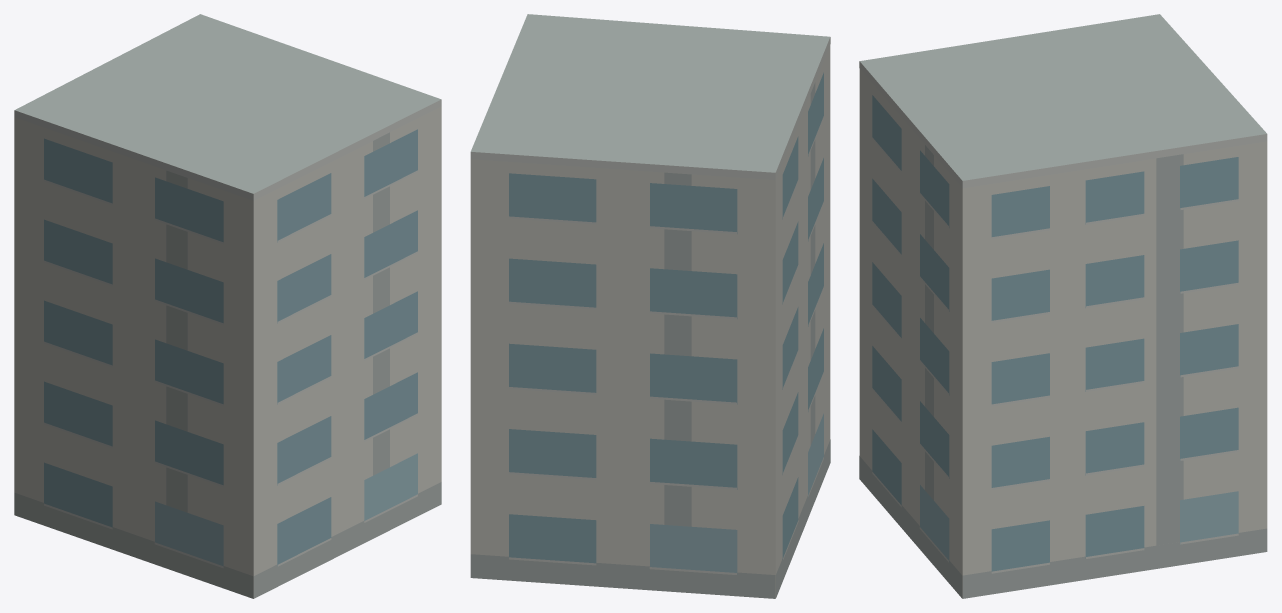
Rendered from survey-upis-32853111.glb.
3 renders of one model, left to right at view 1: azimuth 30°, elevation 25°; view 2: azimuth 150°, elevation 25°; view 3: azimuth 270°, elevation 25°, orthographic. The views are drawn at different scales.
Visible parts, largest first — view 1: survey-upis-32853111.tmp; view 2: survey-upis-32853111.tmp; view 3: survey-upis-32853111.tmp.
Part boxes in pixels (x1,y1,x2,y2): survey-upis-32853111.tmp: (14, 14, 441, 598); survey-upis-32853111.tmp: (470, 14, 830, 598); survey-upis-32853111.tmp: (859, 14, 1267, 598).
Size of the model in its own units: 11.91 by 13.9 by 12.3.
